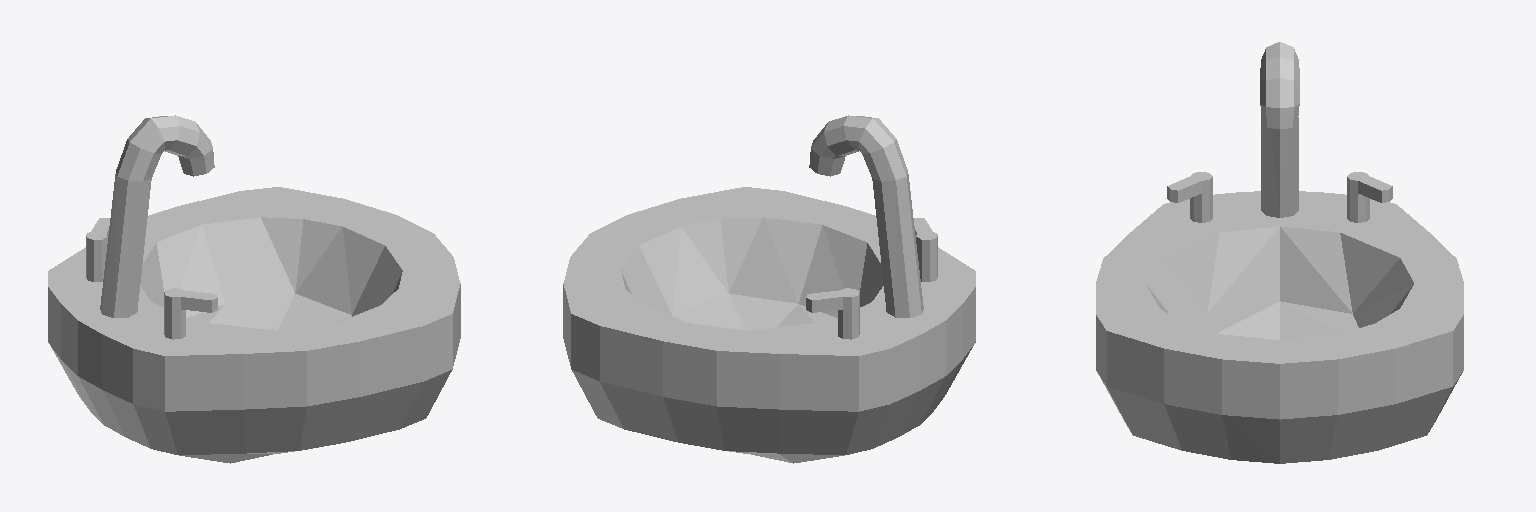
File: sink.obj
The picture shows the model from 3 angles: view 1: azimuth 30°, elevation 25°; view 2: azimuth 150°, elevation 25°; view 3: azimuth 270°, elevation 25°; orthographic projection.
Visible parts, largest first — view 1: sink; view 2: sink; view 3: sink.
Boxes of the visible parts, x1=… form: sink: x1=48, y1=115, x2=460, y2=463; sink: x1=563, y1=115, x2=975, y2=463; sink: x1=1096, y1=42, x2=1463, y2=463.
Bounding box in the file's own units: 3.17 × 2.78 × 2.84.